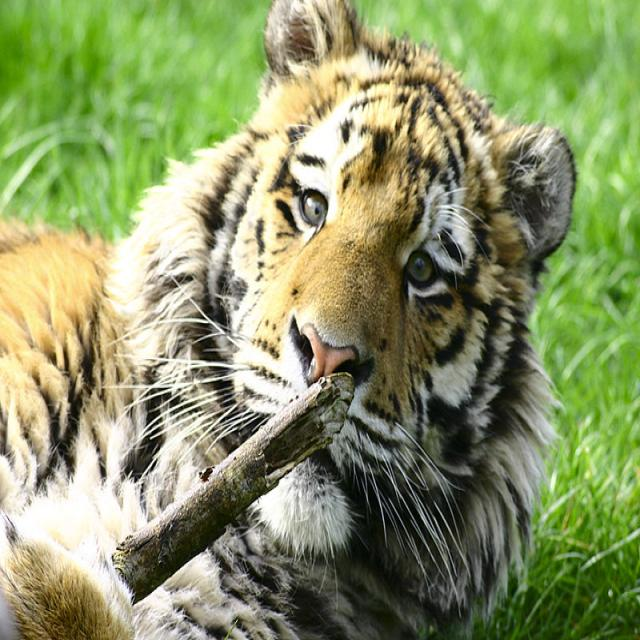Tiger: (19, 1, 573, 622)
